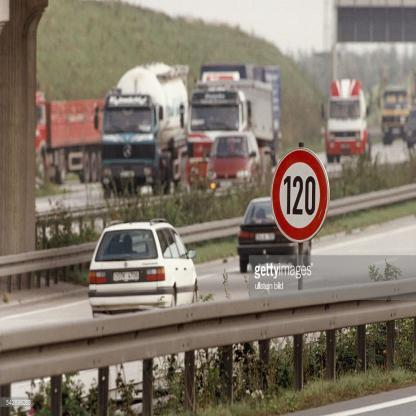Speed Limit 120: (274, 149, 326, 242)
